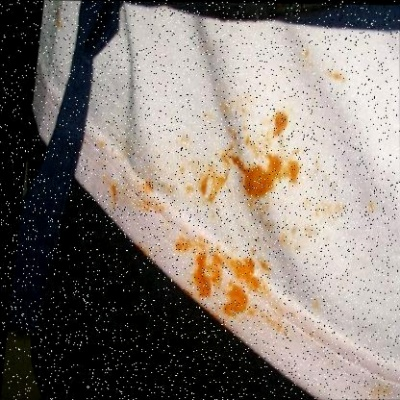kimchi: (195, 110, 304, 213), (188, 239, 283, 295), (101, 173, 180, 210), (219, 297, 293, 319), (292, 217, 343, 244), (96, 136, 137, 165), (168, 121, 193, 161), (312, 65, 347, 87), (257, 319, 300, 336), (365, 383, 392, 399), (172, 235, 188, 257), (307, 293, 320, 316), (52, 8, 66, 28), (363, 201, 378, 216)
